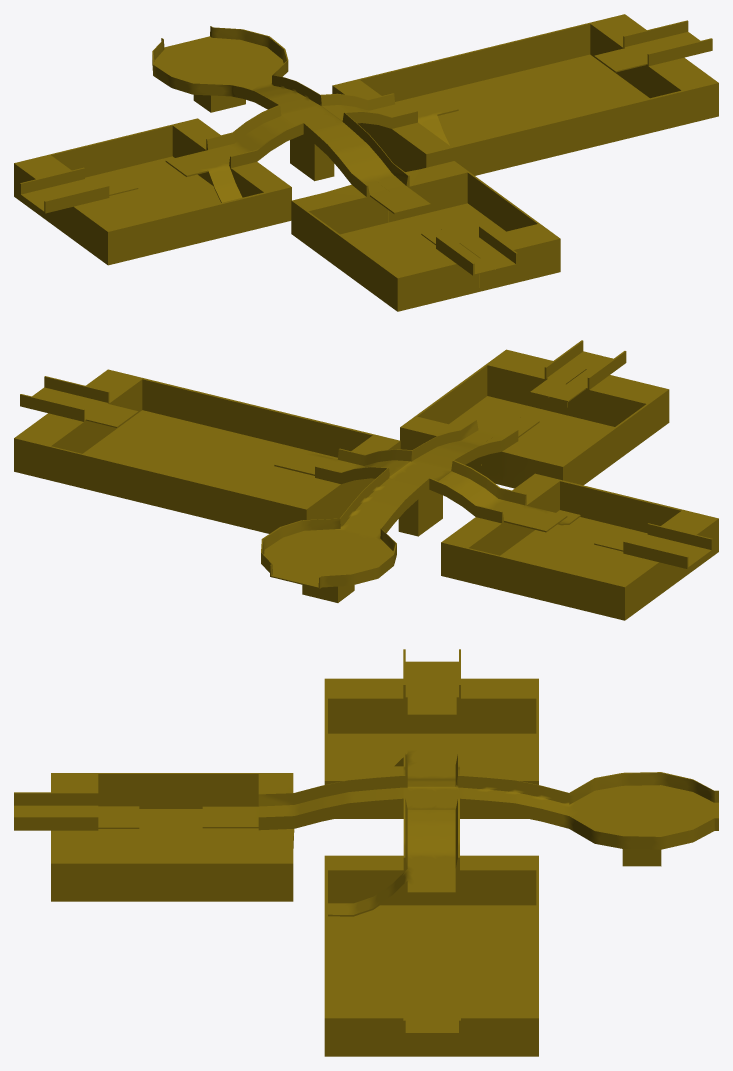
File: 산타들.obj
3 renders of one model, top to bottom at view 1: azimuth 30°, elevation 25°; view 2: azimuth 150°, elevation 25°; view 3: azimuth 270°, elevation 25°, orthographic. The views are drawn at different scales.
Visible parts, largest first — view 1: Box001; view 2: Box001; view 3: Box001.
Part boxes in pixels (left/top/right/bottom): Box001: left=14, top=14, right=718, bottom=311; Box001: left=14, top=340, right=718, bottom=620; Box001: left=14, top=649, right=718, bottom=1056.
Size of the model in its own units: 312 by 27.15 by 250.
